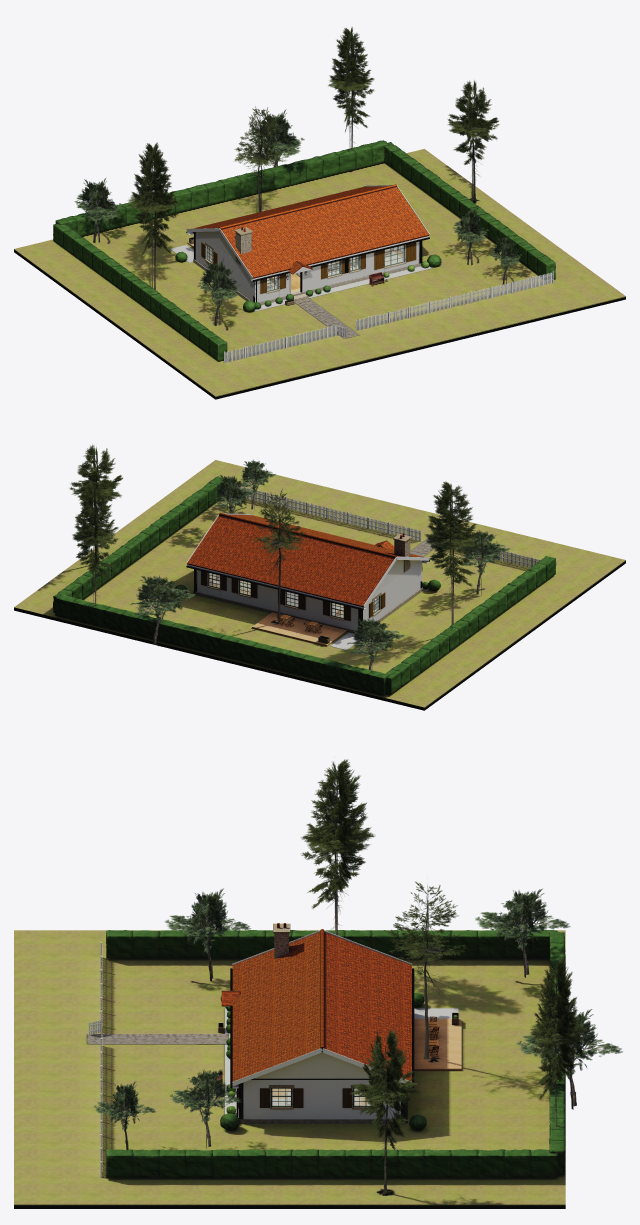
File: alder-house.glb
3 renders of one model, top to bottom at view 1: azimuth 30°, elevation 25°; view 2: azimuth 150°, elevation 25°; view 3: azimuth 270°, elevation 25°, orthographic. The views are drawn at different scales.
Visible parts, largest first — view 1: grounds, roof, walls, tree_16, tree_19, tree_22, tree_15, tree_24, tree_25, tree_1, glass, tree_7 (+5 smaller); view 2: grounds, roof, walls, tree_15, tree_18, tree_21, tree_24, tree_6, tree_9, tree_0, tree_8, tree_25 (+7 smaller); view 3: grounds, roof, walls, tree_16, tree_25, tree_19, tree_22, tree_18, tree_21, tree_15, tree_10, tree_4 (+11 smaller).
Part boxes in pixels (box(x1,y1,x2,y2)): grounds: box(14, 140, 625, 399); roof: box(186, 184, 429, 302); walls: box(194, 232, 421, 302); tree_16: box(131, 143, 178, 289); tree_19: box(329, 28, 374, 170); tree_22: box(448, 80, 498, 200); tree_15: box(136, 142, 167, 287); tree_24: box(234, 107, 283, 212); tree_25: box(245, 106, 276, 211); tree_1: box(197, 261, 237, 325); glass: box(208, 245, 403, 290); tree_7: box(253, 111, 297, 166); grounds: box(14, 460, 625, 710); roof: box(186, 512, 429, 625); walls: box(195, 560, 422, 630); tree_15: box(424, 481, 480, 624); tree_18: box(72, 483, 118, 604); tree_21: box(69, 444, 122, 562); tree_24: box(254, 492, 305, 621); tree_6: box(130, 576, 183, 644); tree_9: box(347, 618, 394, 670); tree_0: box(459, 531, 500, 593); tree_8: box(134, 588, 195, 615); tree_25: box(266, 488, 292, 622); grounds: box(14, 929, 565, 1208); roof: box(221, 923, 414, 1122); walls: box(229, 1033, 405, 1119); tree_16: box(301, 759, 371, 934); tree_25: box(385, 881, 466, 1059); tree_19: box(531, 958, 580, 1127); tree_22: box(358, 1029, 415, 1194); tree_18: box(534, 961, 577, 1124); tree_21: box(362, 1031, 410, 1195); tree_15: box(321, 761, 354, 935); tree_10: box(495, 888, 552, 974); tree_4: box(183, 1069, 231, 1146).
Bounding box in the file's own units: 41.35 × 14.43 × 37.73.
Materials: 24 (23 with a texture image).
